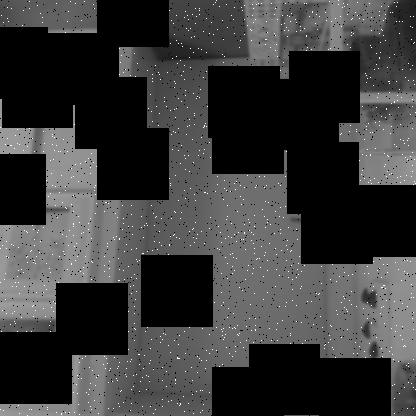Porte: (86, 23, 360, 415)
